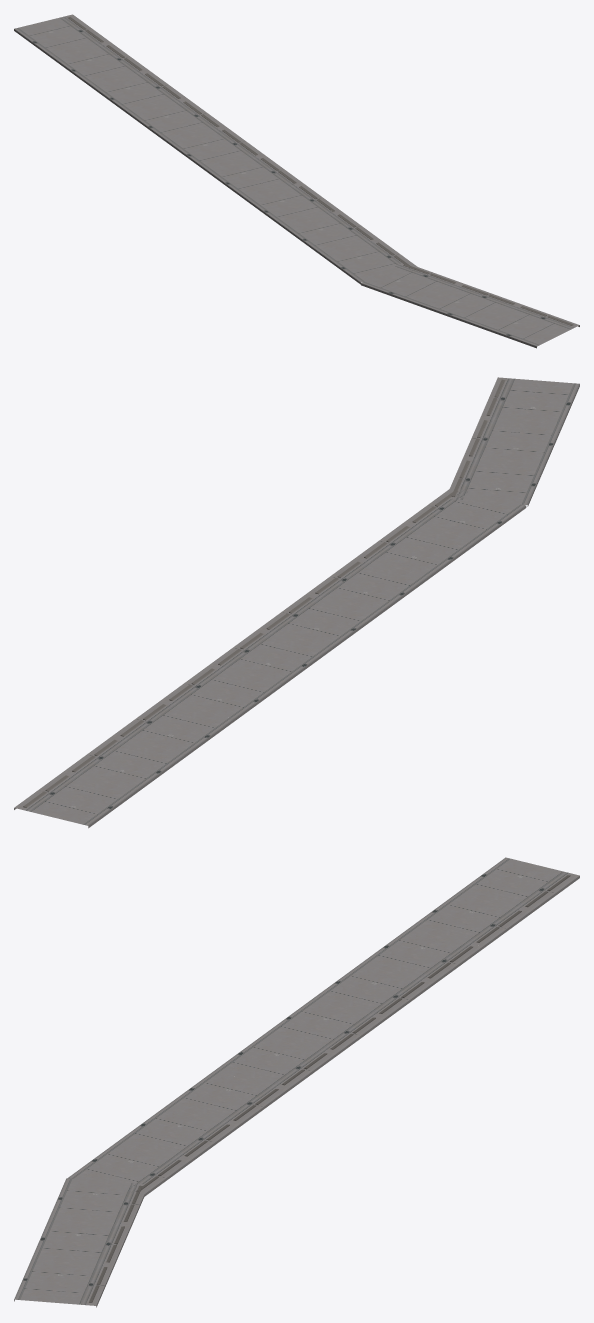
File: PF_Maincity_ground_01.fbx
3 renders of one model, top to bottom at view 1: azimuth 30°, elevation 25°; view 2: azimuth 150°, elevation 25°; view 3: azimuth 330°, elevation 25°, orthographic. The views are drawn at different scales.
Parts seen in each view (by area): view 1: PF_Maincity_ground_01; view 2: PF_Maincity_ground_01; view 3: PF_Maincity_ground_01.
Part boxes in pixels (bbox=[...]): PF_Maincity_ground_01: bbox=[14, 14, 579, 348]; PF_Maincity_ground_01: bbox=[14, 377, 579, 828]; PF_Maincity_ground_01: bbox=[14, 857, 579, 1307].
Size of the model in its own units: 6.7 by 0.1445 by 43.62.
